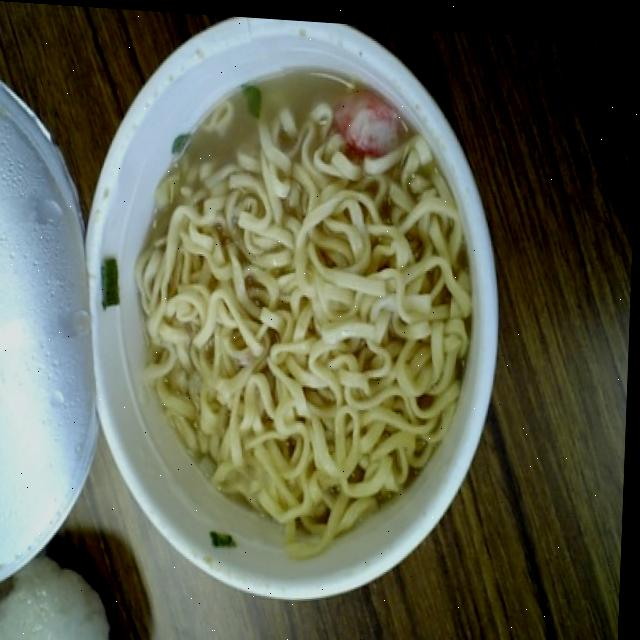面条主食: (131, 45, 485, 543)
